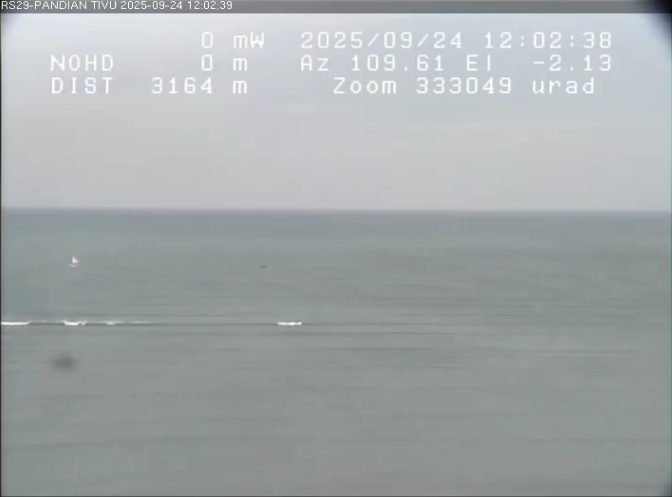SAIL_BOAT: (56, 252, 90, 270)
